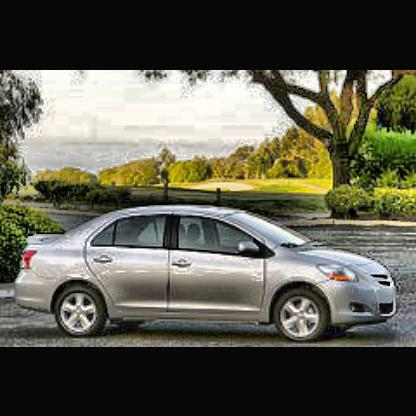Suzuki Aerio Sedan 2007: (15, 205, 401, 347)
